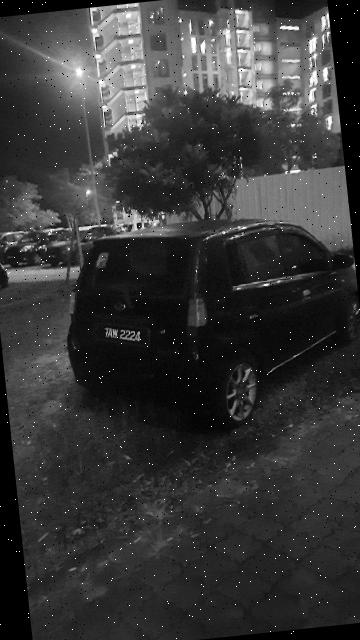License_Plate: (97, 317, 155, 355)
car: (51, 205, 360, 449)
